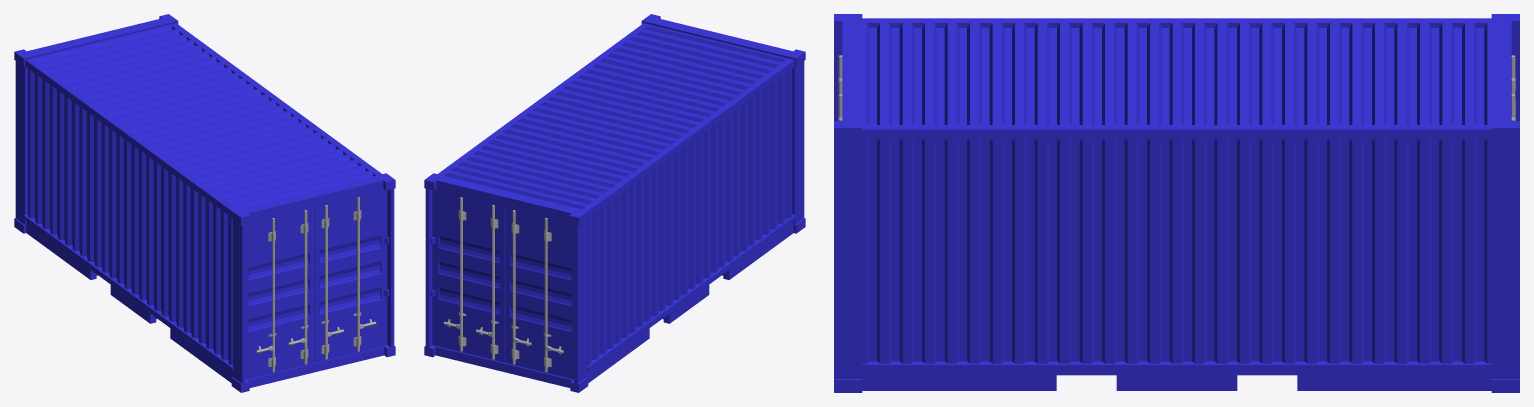
Rendered from Container.fbx.
3 renders of one model, left to right at view 1: azimuth 30°, elevation 25°; view 2: azimuth 150°, elevation 25°; view 3: azimuth 270°, elevation 25°, orthographic. The views are drawn at different scales.
Parts seen in each view (by area): view 1: Container.001; view 2: Container.001; view 3: Container.001.
Part boxes in pixels (box(x1,y1,x2,y2)): Container.001: box(14, 14, 395, 392); Container.001: box(424, 14, 805, 392); Container.001: box(834, 14, 1519, 392).
Size of the model in its own units: 240 by 260 by 610.
